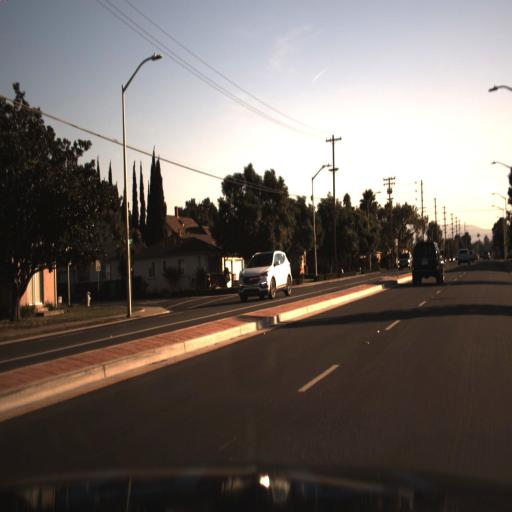car: (235, 247, 292, 304), (406, 237, 447, 293), (410, 239, 447, 289), (396, 246, 415, 276), (455, 245, 471, 268)
